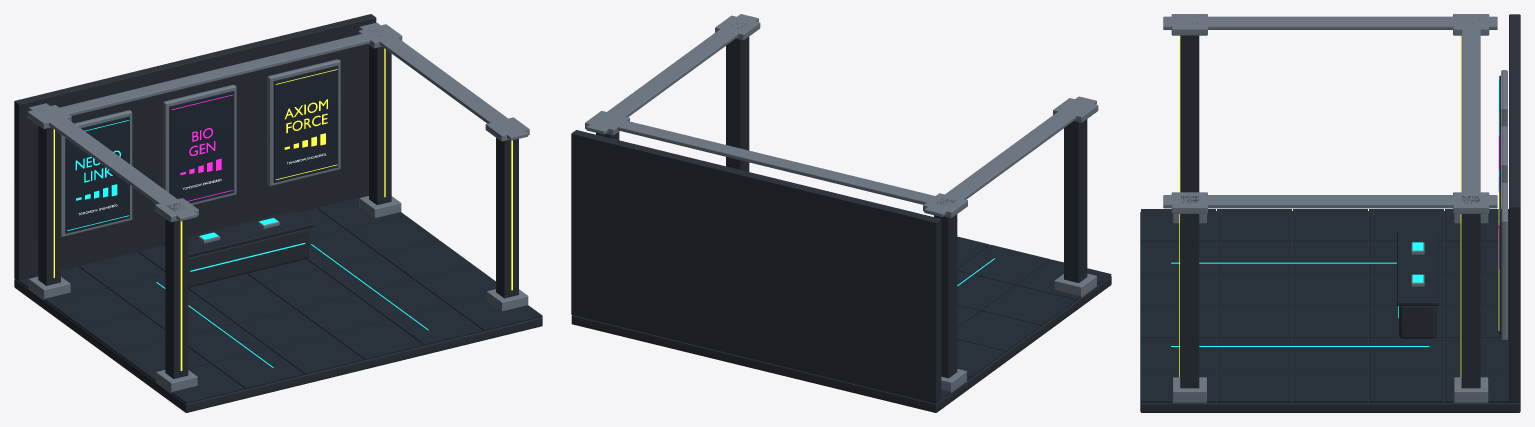
Rendered from corporate_hub.glb.
3 views of the same model, side by side, from view 1: azimuth 30°, elevation 25°; view 2: azimuth 150°, elevation 25°; view 3: azimuth 270°, elevation 25° (orthographic). The views are drawn at different scales.
Parts seen in each view (by area): view 1: Lobby_rear_wall, Holographic_ad_backplate.002, Holographic_ad_backplate.001, Holographic_ad_backplate, Lobby_foundation, Rear_spanning_beam, Corporate_pillar, Reception_counter, Corporate_pillar.003, Corporate_pillar.002, Corporate_pillar.001, Overhead_spine.001 (+41 smaller); view 2: Lobby_rear_wall, Lobby_foundation, Rear_spanning_beam, Corporate_pillar, Overhead_spine.001, Corporate_pillar.002, Overhead_spine, Corporate_pillar.001, Obsidian_lobby_tile.001, Obsidian_lobby_tile.005, Obsidian_lobby_tile.002, Obsidian_lobby_tile.006 (+8 smaller); view 3: Lobby_foundation, Lobby_rear_wall, Overhead_spine, Overhead_spine.001, Corporate_pillar.003, Corporate_pillar.002, Rear_spanning_beam, Corporate_pillar, Reception_top, Obsidian_lobby_tile.026, Obsidian_lobby_tile.027, Obsidian_lobby_tile.028 (+38 smaller).
Part boxes in pixels (left/top/right/bottom): Lobby_rear_wall: left=14, top=14, right=376, bottom=281; Holographic_ad_backplate.002: left=273, top=65, right=338, bottom=182; Holographic_ad_backplate.001: left=169, top=91, right=234, bottom=203; Holographic_ad_backplate: left=65, top=116, right=129, bottom=233; Lobby_foundation: left=14, top=279, right=542, bottom=412; Rear_spanning_beam: left=59, top=30, right=389, bottom=116; Corporate_pillar: left=165, top=203, right=188, bottom=378; Reception_counter: left=188, top=228, right=308, bottom=287; Corporate_pillar.003: left=369, top=30, right=391, bottom=204; Corporate_pillar.002: left=496, top=138, right=518, bottom=298; Corporate_pillar.001: left=38, top=125, right=60, bottom=285; Overhead_spine.001: left=359, top=22, right=528, bottom=140; Lobby_rear_wall: left=571, top=130, right=941, bottom=403; Lobby_foundation: left=571, top=276, right=1111, bottom=412; Rear_spanning_beam: left=617, top=120, right=950, bottom=204; Corporate_pillar: left=1064, top=119, right=1087, bottom=282; Overhead_spine.001: left=586, top=14, right=758, bottom=134; Corporate_pillar.002: left=726, top=23, right=749, bottom=171; Overhead_spine: left=924, top=96, right=1096, bottom=216; Corporate_pillar.001: left=934, top=199, right=957, bottom=378; Obsidian_lobby_tile.001: left=982, top=285, right=1076, bottom=326; Obsidian_lobby_tile.005: left=957, top=244, right=1050, bottom=285; Obsidian_lobby_tile.002: left=957, top=311, right=1040, bottom=352; Obsidian_lobby_tile.006: left=957, top=271, right=1015, bottom=311; Lobby_foundation: left=1140, top=211, right=1520, bottom=412; Lobby_rear_wall: left=1509, top=14, right=1520, bottom=402; Overhead_spine: left=1163, top=16, right=1497, bottom=29; Overhead_spine.001: left=1163, top=195, right=1497, bottom=208; Corporate_pillar.003: left=1461, top=196, right=1480, bottom=388; Corporate_pillar.002: left=1180, top=196, right=1199, bottom=388; Rear_spanning_beam: left=1461, top=19, right=1480, bottom=202; Corporate_pillar: left=1180, top=22, right=1199, bottom=192; Reception_top: left=1397, top=232, right=1438, bottom=305; Obsidian_lobby_tile.026: left=1217, top=369, right=1291, bottom=402; Obsidian_lobby_tile.027: left=1293, top=369, right=1367, bottom=402; Obsidian_lobby_tile.028: left=1369, top=369, right=1443, bottom=402.
Bounding box in the file's own units: 12.05 × 6 × 10.
